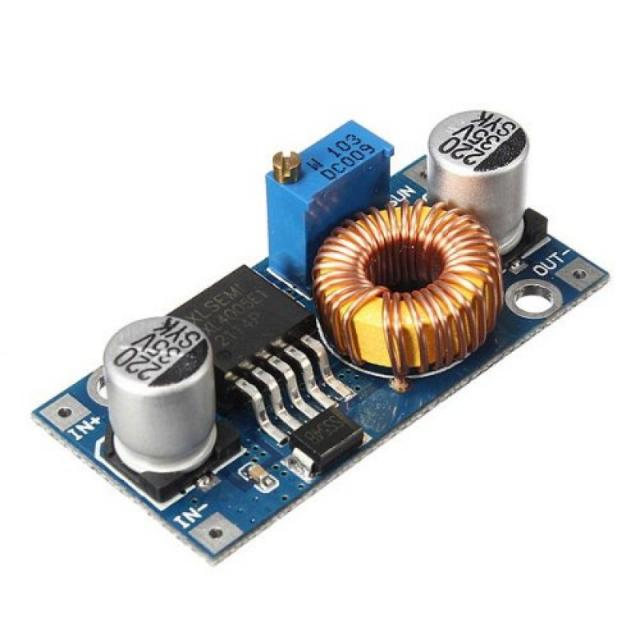IC: (167, 252, 333, 423)
capacitor 1V5: (100, 319, 224, 486), (430, 97, 534, 239), (238, 459, 280, 493)
diode -D1-: (279, 394, 381, 487)
inductor F1: (297, 182, 523, 402)
potentiometer POT1: (254, 108, 403, 257)
